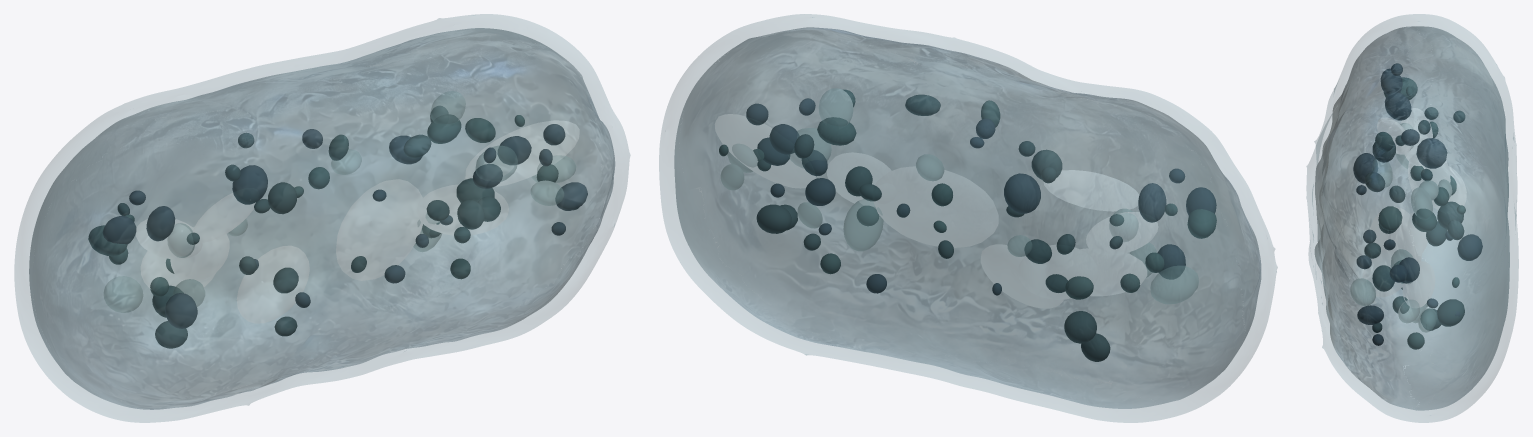
File: cell.glb
3 views of the same model, side by side, from view 1: azimuth 30°, elevation 25°; view 2: azimuth 150°, elevation 25°; view 3: azimuth 270°, elevation 25° (orthographic). The views are drawn at different scales.
Parts seen in each view (by area): view 1: 01 | Rodin-derived cell membrane, 02 | Textured cytoplasm, Vesicle 11, Granule 26, Vesicle 09, Granule 29, Vesicle 02, Granule 12, Granule 41, Granule 45, Granule 01, Granule 35 (+9 smaller); view 2: 01 | Rodin-derived cell membrane, 02 | Textured cytoplasm, Vesicle 01, Vesicle 11, Granule 26, Vesicle 02, Granule 12, Granule 45, Granule 24, Granule 50, Granule 29, Granule 21 (+10 smaller); view 3: 01 | Rodin-derived cell membrane, 02 | Textured cytoplasm, Granule 26, Granule 12, Granule 50, Vesicle 04, Vesicle 02, Granule 47, Granule 29, Granule 34, Granule 24, Granule 45 (+23 smaller).
Boxes of the visible parts, x1,y1,x2,y2 form: 01 | Rodin-derived cell membrane: [14, 14, 630, 422]; 02 | Textured cytoplasm: [29, 28, 615, 409]; Vesicle 11: [104, 276, 142, 312]; Granule 26: [232, 165, 267, 204]; Vesicle 09: [475, 146, 517, 181]; Granule 29: [165, 293, 197, 328]; Vesicle 02: [430, 91, 465, 123]; Granule 12: [146, 206, 174, 241]; Granule 41: [497, 136, 531, 164]; Granule 45: [427, 114, 461, 143]; Granule 01: [102, 216, 136, 244]; Granule 35: [268, 182, 297, 213]; 01 | Rodin-derived cell membrane: [659, 14, 1277, 422]; 02 | Textured cytoplasm: [674, 27, 1261, 408]; Vesicle 01: [843, 199, 883, 250]; Vesicle 11: [1150, 266, 1198, 303]; Granule 26: [1004, 173, 1040, 213]; Vesicle 02: [819, 88, 852, 125]; Granule 12: [1138, 183, 1166, 222]; Granule 45: [817, 117, 856, 145]; Granule 24: [1064, 311, 1096, 343]; Granule 50: [756, 204, 791, 233]; Granule 29: [1157, 244, 1185, 278]; Granule 21: [1187, 209, 1216, 238]; 01 | Rodin-derived cell membrane: [1306, 14, 1518, 422]; 02 | Textured cytoplasm: [1314, 26, 1509, 410]; Granule 26: [1416, 138, 1447, 168]; Granule 12: [1385, 92, 1411, 120]; Granule 50: [1437, 299, 1464, 326]; Vesicle 04: [1350, 278, 1375, 305]; Vesicle 02: [1411, 187, 1432, 218]; Granule 47: [1457, 234, 1482, 260]; Granule 29: [1353, 153, 1377, 183]; Granule 34: [1378, 206, 1402, 230]; Granule 24: [1437, 201, 1463, 229]; Granule 45: [1412, 209, 1436, 231].
Size of the model in its own units: 3.95 by 2 by 1.47.
7 materials, 1 textured.
